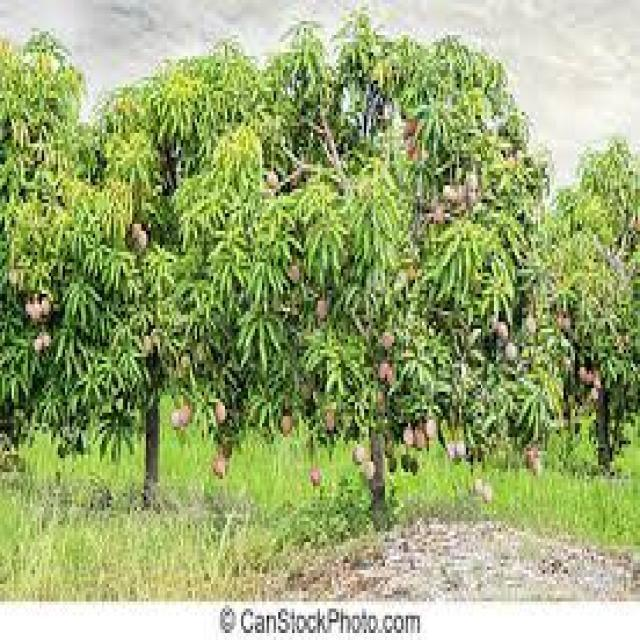tree: (270, 32, 561, 533), (2, 11, 224, 533)
